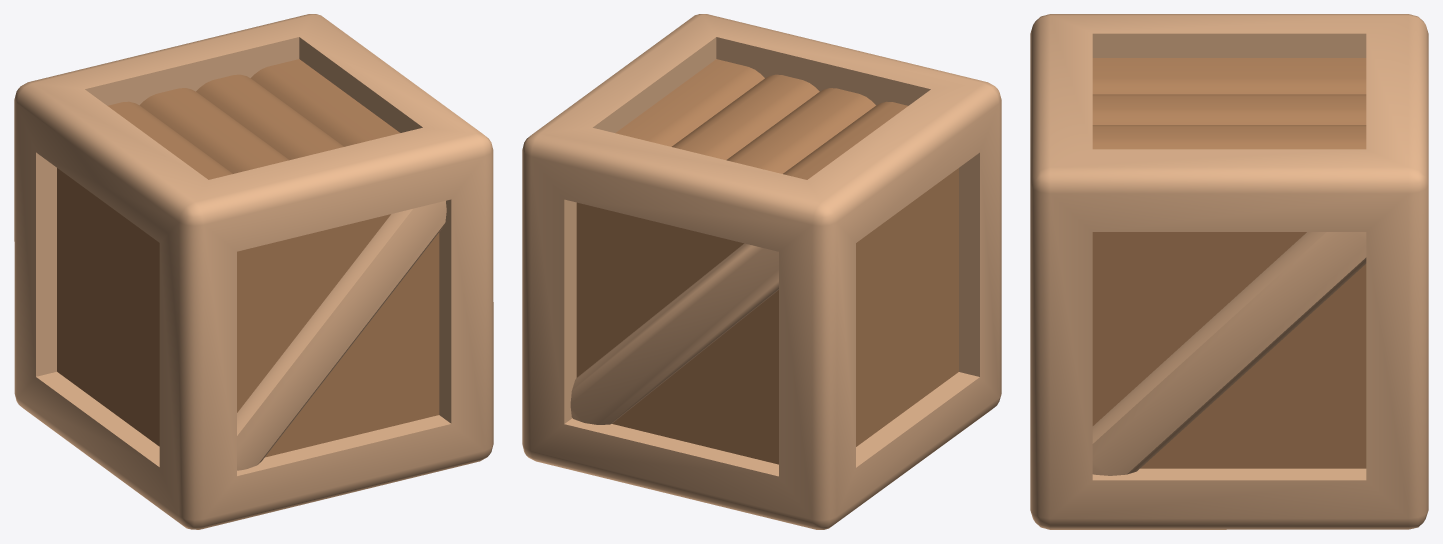
The model's file is Crate.fbx.
The picture shows the model from 3 angles, left to right: view 1: azimuth 30°, elevation 25°; view 2: azimuth 150°, elevation 25°; view 3: azimuth 270°, elevation 25°; orthographic projection. The views are drawn at different scales.
Parts seen in each view (by area): view 1: Cube; view 2: Cube; view 3: Cube.
Part boxes in pixels (x1,y1,x2,y2): Cube: (14,14,493,529); Cube: (522,14,1001,529); Cube: (1030,14,1428,529).
Bounding box in the file's own units: 1.6 × 1.6 × 1.6.
